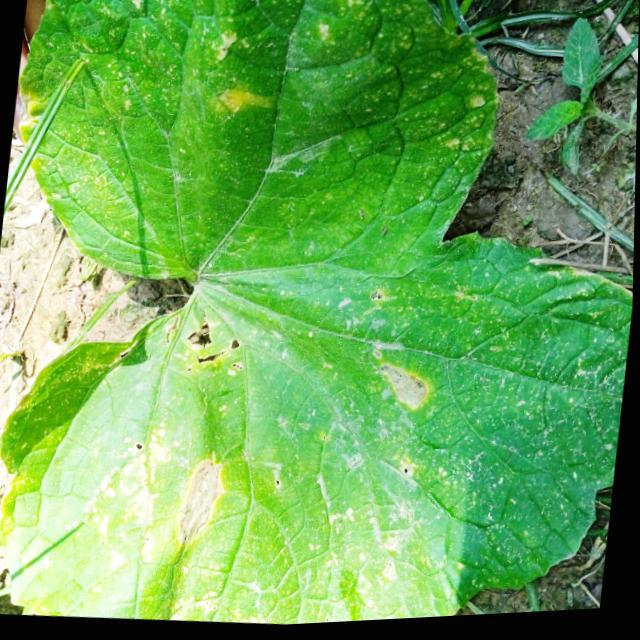Anthracnose: (170, 292, 254, 391)
